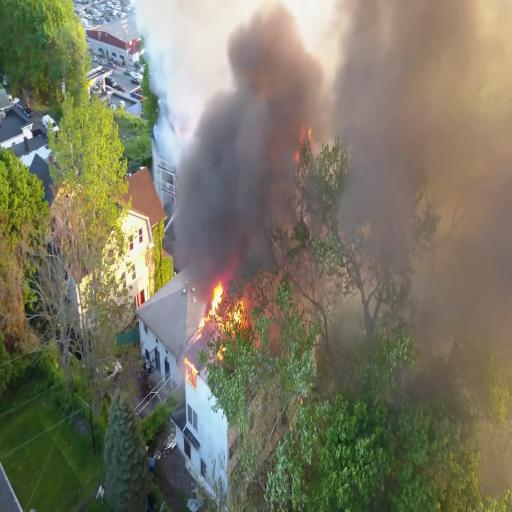fire: (210, 281, 244, 325)
smoke: (178, 44, 276, 256)
